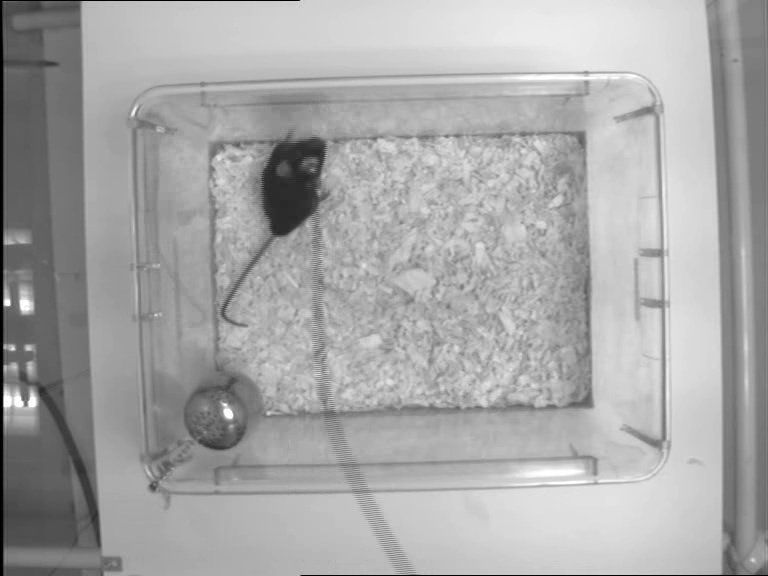mice: (221, 125, 330, 328)
